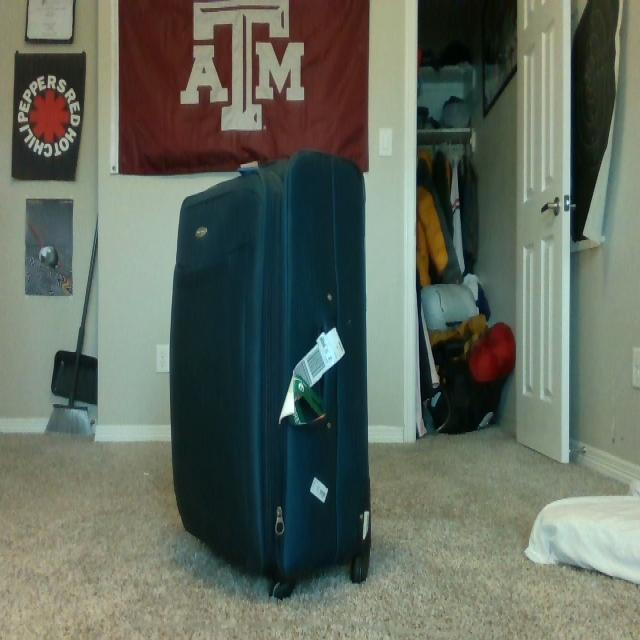suitcase: (168, 148, 375, 600)
